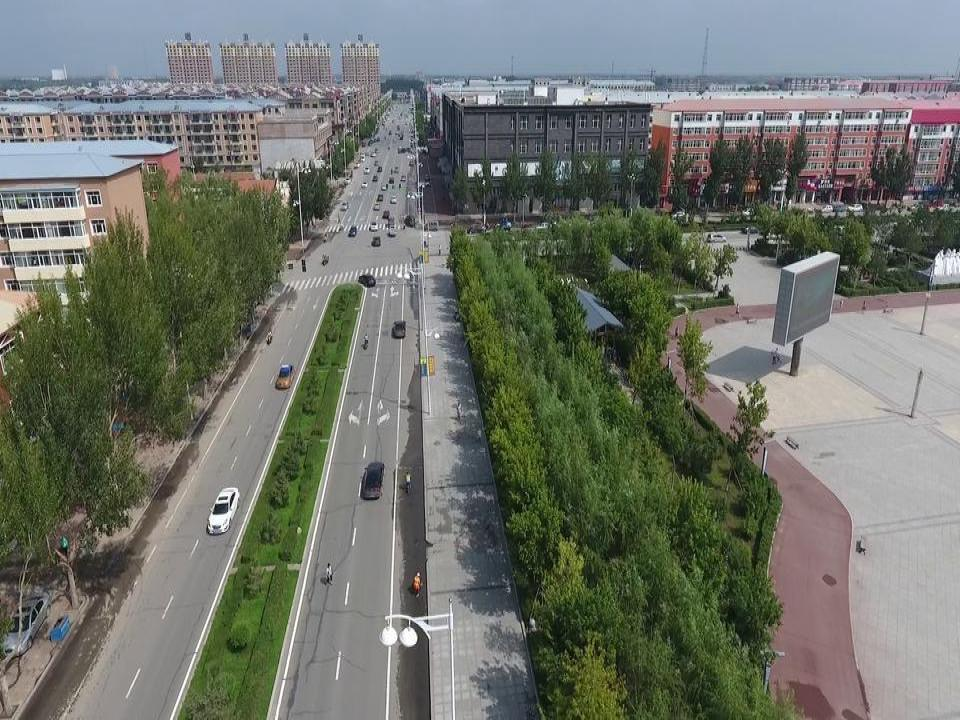car: (0, 592, 51, 661), (206, 487, 240, 534), (361, 461, 385, 499), (275, 364, 294, 388), (356, 273, 376, 287), (707, 232, 726, 245), (393, 320, 406, 337), (534, 221, 552, 231), (670, 211, 688, 220), (765, 229, 781, 239), (742, 208, 759, 217), (848, 204, 863, 213), (741, 226, 760, 233), (818, 206, 832, 214), (832, 206, 845, 214), (417, 180, 430, 188), (348, 225, 357, 236), (370, 236, 381, 245), (341, 201, 349, 211), (370, 220, 378, 229), (344, 177, 352, 184), (360, 181, 368, 188), (383, 210, 390, 218), (373, 202, 380, 209), (390, 196, 397, 203), (376, 195, 384, 201), (388, 177, 394, 184), (381, 183, 387, 190), (400, 175, 406, 181), (372, 176, 378, 181), (424, 176, 430, 181)
truck: (389, 225, 396, 235)
van: (422, 220, 438, 232), (403, 214, 414, 227), (388, 216, 394, 229)
